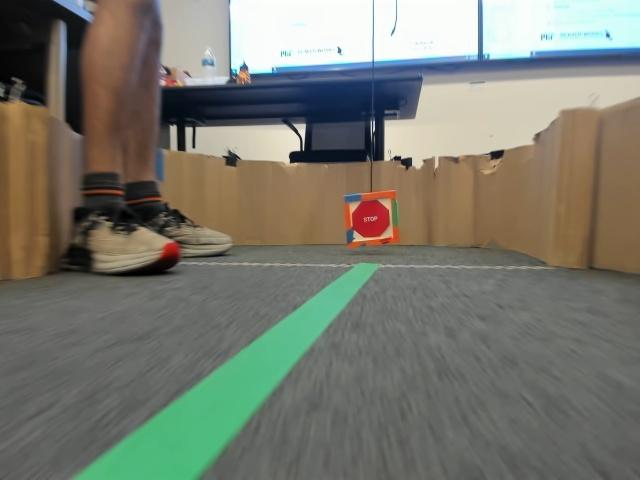Stop: (350, 202, 387, 238)
